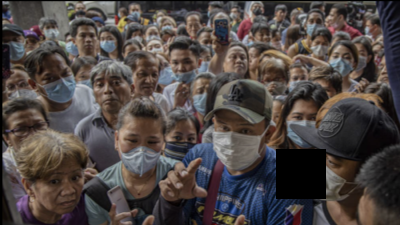mask_weared_incorrect: (170, 58, 198, 86), (256, 31, 274, 48), (25, 38, 39, 55), (328, 12, 340, 31)
with_mask: (305, 148, 354, 204), (211, 120, 264, 171), (118, 133, 163, 176), (41, 66, 77, 104), (286, 112, 318, 151), (163, 131, 197, 164), (4, 78, 37, 100), (330, 52, 354, 78), (3, 35, 26, 62), (262, 75, 287, 98), (193, 85, 210, 118), (159, 62, 175, 85), (312, 40, 331, 59), (306, 17, 324, 37), (199, 38, 216, 59), (288, 74, 309, 91), (99, 35, 117, 54), (196, 55, 213, 74), (354, 49, 368, 72), (78, 70, 94, 89), (43, 24, 60, 41), (65, 38, 79, 57), (145, 30, 162, 43), (147, 43, 162, 57), (129, 32, 144, 45), (270, 111, 281, 128), (272, 34, 283, 50), (161, 22, 173, 33), (252, 5, 263, 17), (75, 6, 86, 17), (131, 8, 141, 20), (364, 24, 372, 37), (96, 23, 105, 34), (156, 14, 165, 25), (230, 10, 238, 20), (207, 7, 212, 19), (117, 11, 122, 20)
without_mask: (39, 167, 86, 215), (94, 75, 131, 114), (8, 118, 49, 150), (133, 68, 159, 98), (223, 52, 248, 78), (76, 32, 98, 54), (187, 21, 202, 38), (380, 62, 390, 85), (248, 52, 258, 73), (278, 10, 286, 20)
